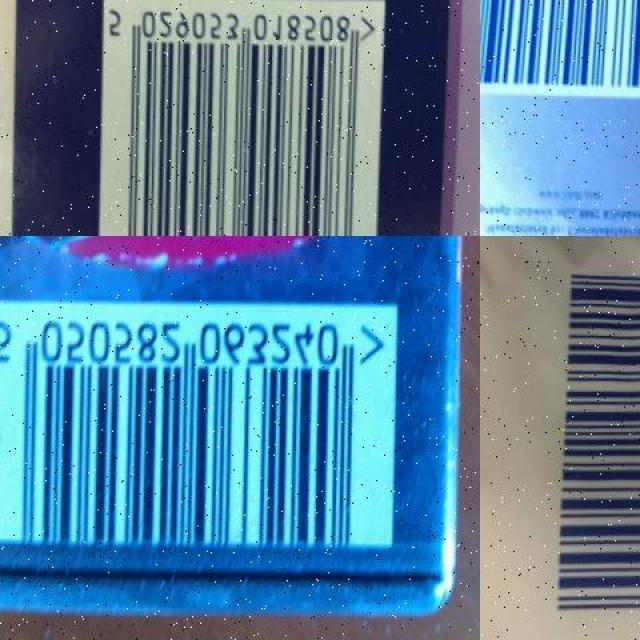Barcode: (0, 297, 399, 551), (97, 0, 388, 236), (546, 235, 640, 625), (480, 0, 640, 99)
